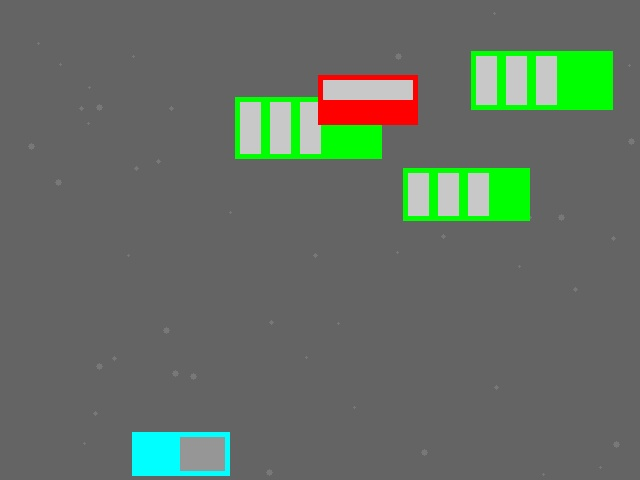bus: (235, 97, 381, 158), (471, 51, 612, 109), (403, 168, 529, 220)
car: (318, 75, 417, 124)
truck: (132, 432, 229, 475)
